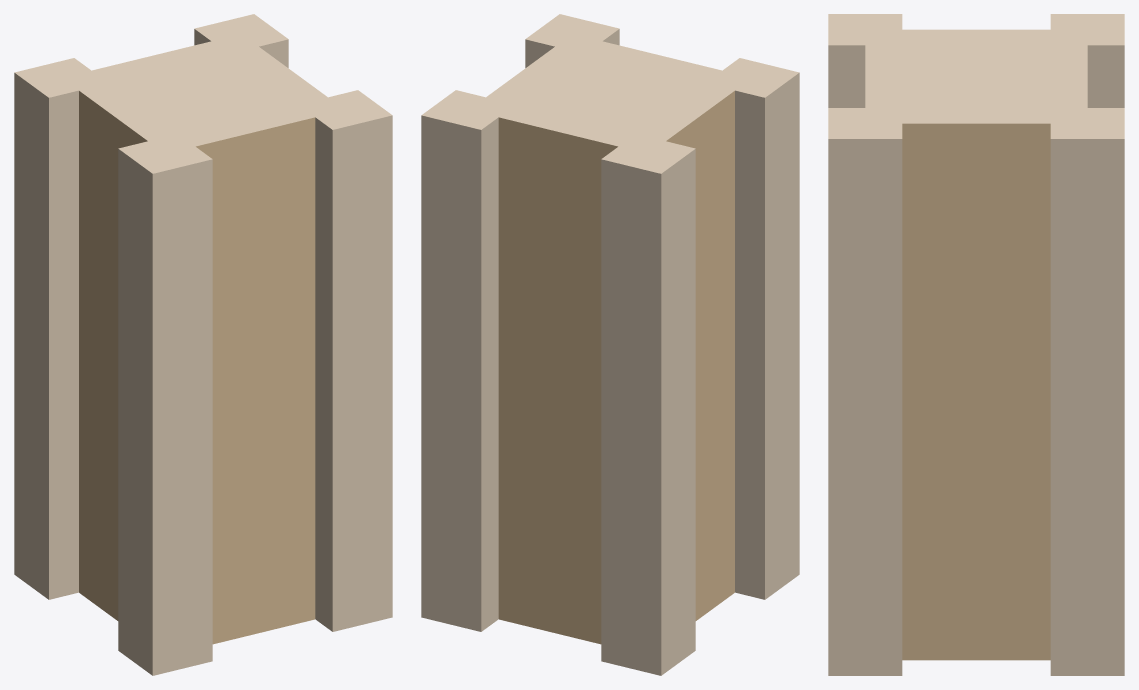
File: Puzzle_Sliding_Pillar_Platform_Top.glb
The picture shows the model from 3 angles, left to right: view 1: azimuth 30°, elevation 25°; view 2: azimuth 150°, elevation 25°; view 3: azimuth 270°, elevation 25°; orthographic projection. The views are drawn at different scales.
Parts seen in each view (by area): view 1: Puzzle_Sliding_Pillar_Platform_Top; view 2: Puzzle_Sliding_Pillar_Platform_Top; view 3: Puzzle_Sliding_Pillar_Platform_Top.
Part boxes in pixels (x1,y1,x2,y2): Puzzle_Sliding_Pillar_Platform_Top: (14,14,392,675); Puzzle_Sliding_Pillar_Platform_Top: (421,14,799,675); Puzzle_Sliding_Pillar_Platform_Top: (828,14,1124,675).
Size of the model in its own units: 0.4 by 0.8 by 0.4.
